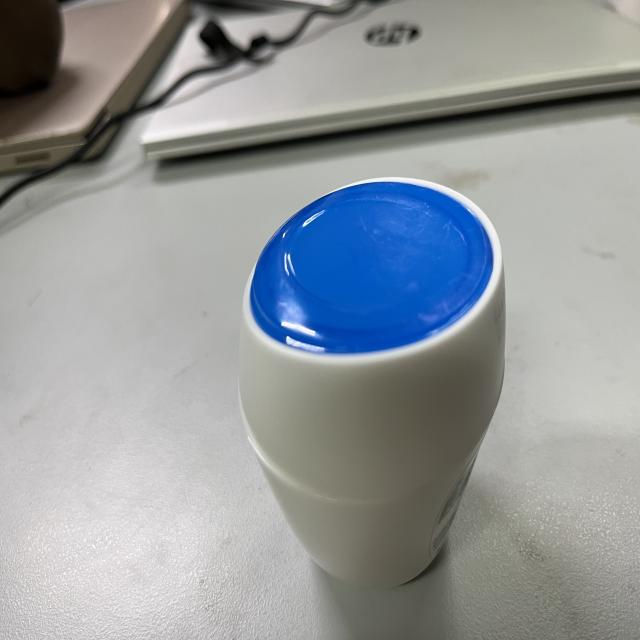L1: (237, 170, 497, 603)
